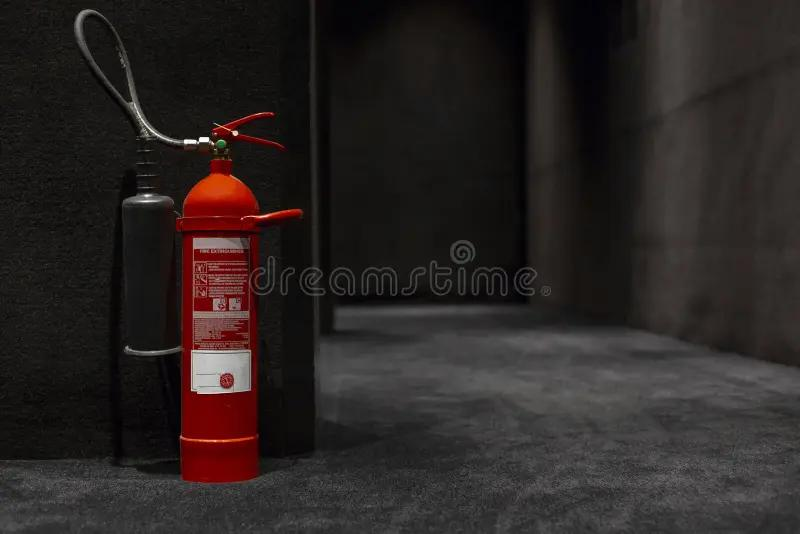floor-kept: (60, 3, 345, 512)
